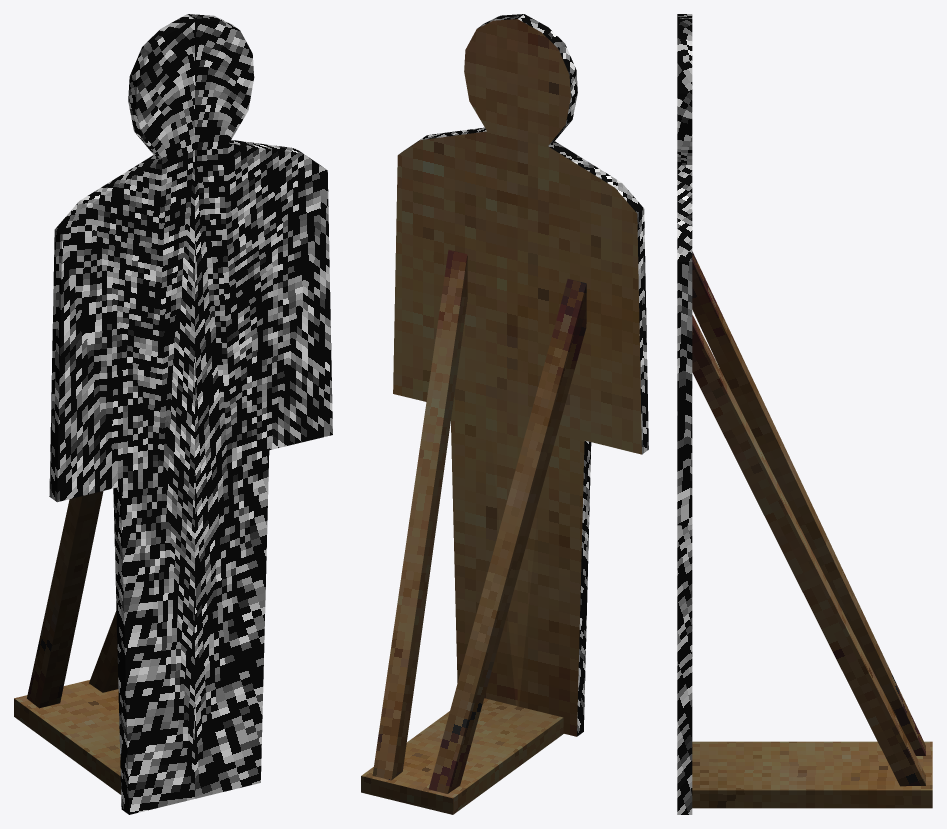
File: the_guy.glb
The picture shows the model from 3 angles, left to right: view 1: azimuth 30°, elevation 25°; view 2: azimuth 150°, elevation 25°; view 3: azimuth 270°, elevation 25°; orthographic projection. The views are drawn at different scales.
Parts seen in each view (by area): view 1: the guy; view 2: the guy; view 3: the guy.
Boxes of the visible parts, <box> form: the guy: <box>14,14,332,814</box>; the guy: <box>361,14,648,814</box>; the guy: <box>677,14,932,814</box>.
Size of the model in its own units: 0.6703 by 1.81 by 0.5475.
2 materials, 2 textured.
